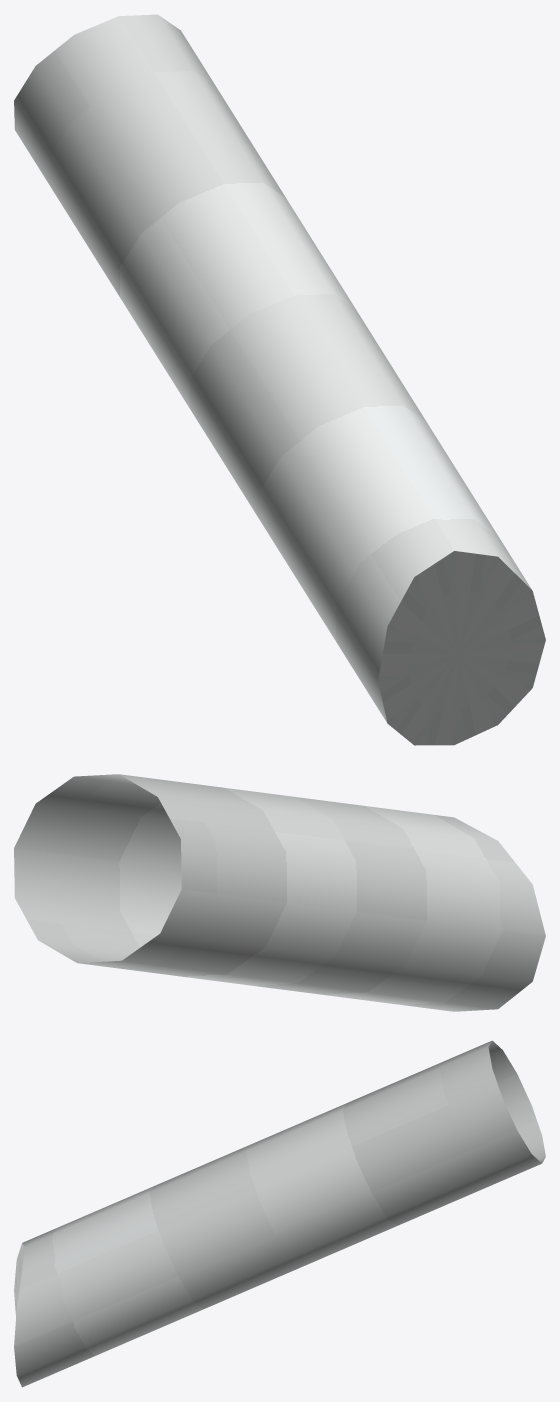
The model's file is luminairearm_truss15ftstraight_c1_thin.obj.
The picture shows the model from 3 angles, top to bottom: view 1: azimuth 30°, elevation 25°; view 2: azimuth 150°, elevation 25°; view 3: azimuth 270°, elevation 25°; orthographic projection. The views are drawn at different scales.
Visible parts, largest first — view 1: luminairearm_truss15ftstraight_c1_thin; view 2: luminairearm_truss15ftstraight_c1_thin; view 3: luminairearm_truss15ftstraight_c1_thin.
Part boxes in pixels (<box>): luminairearm_truss15ftstraight_c1_thin: <box>14,14,545,745</box>; luminairearm_truss15ftstraight_c1_thin: <box>14,774,545,1011</box>; luminairearm_truss15ftstraight_c1_thin: <box>14,1040,545,1387</box>.
Bounding box in the file's own units: 0.1562 × 0.4302 × 0.621.
